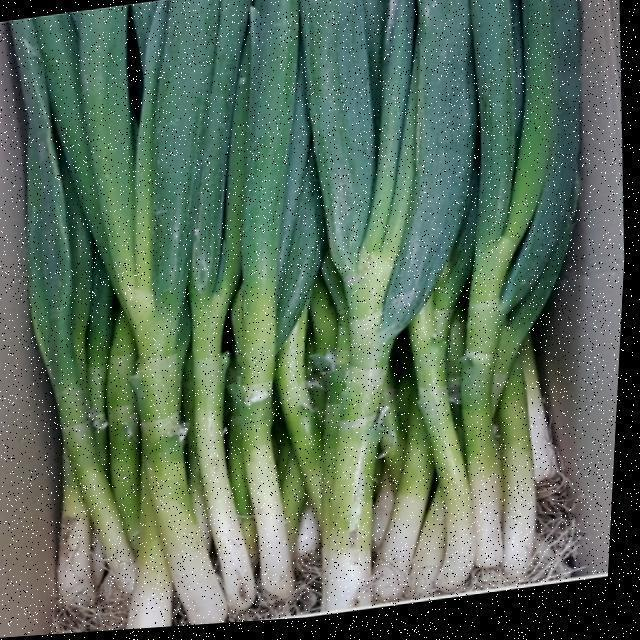green_onion: (300, 1, 423, 616), (9, 7, 128, 621), (451, 0, 575, 587), (170, 0, 273, 623), (389, 0, 482, 598), (129, 5, 213, 626), (264, 0, 342, 605)
